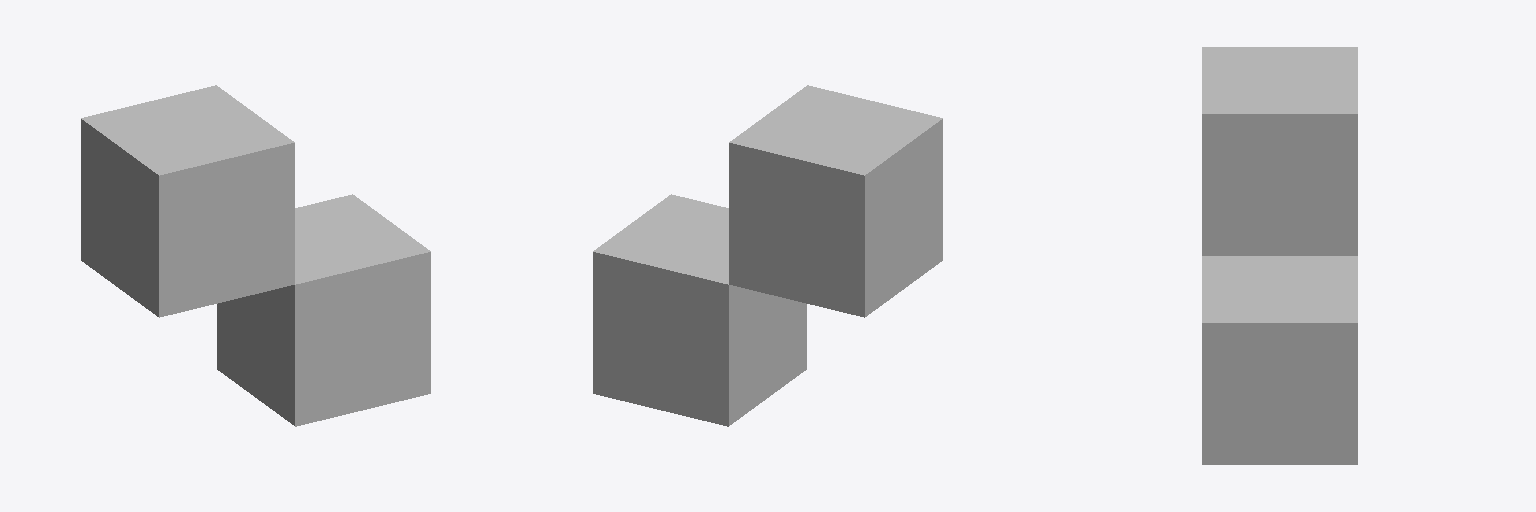
The model's file is cube_example_triangle_multiple.obj.
The picture shows the model from 3 angles: view 1: azimuth 30°, elevation 25°; view 2: azimuth 150°, elevation 25°; view 3: azimuth 270°, elevation 25°; orthographic projection.
Visible parts, largest first — view 1: Cube2, Cube; view 2: Cube2, Cube; view 3: Cube, Cube2.
Part boxes in pixels (x1,y1,x2,y2): Cube2: (81,85,294,317); Cube: (217,194,430,426); Cube2: (729,85,942,317); Cube: (593,194,806,426); Cube: (1202,256,1357,464); Cube2: (1202,47,1357,255).
Bounding box in the file's own units: 4.01 × 4 × 2.